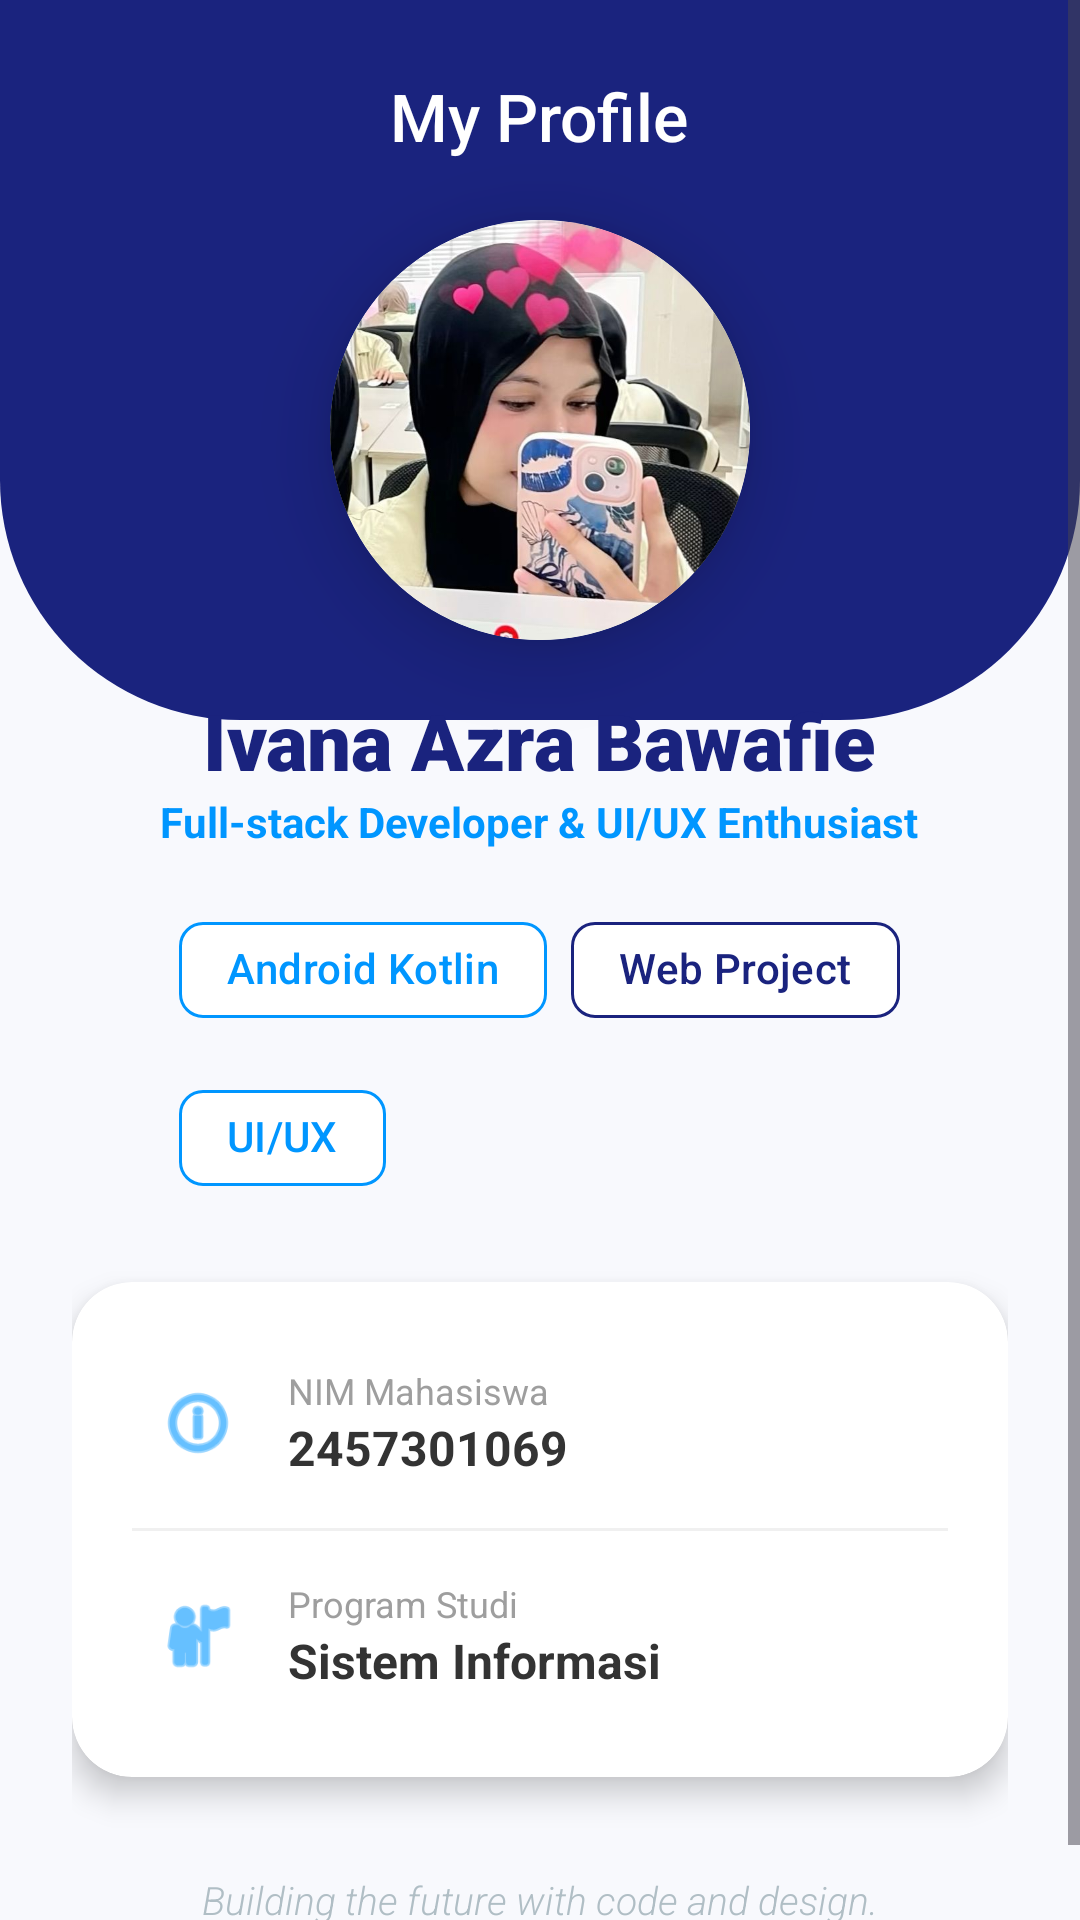

Where to tap for icons on this 1080px×1920px app screen, as (x,y):
info details: (198,1423)
